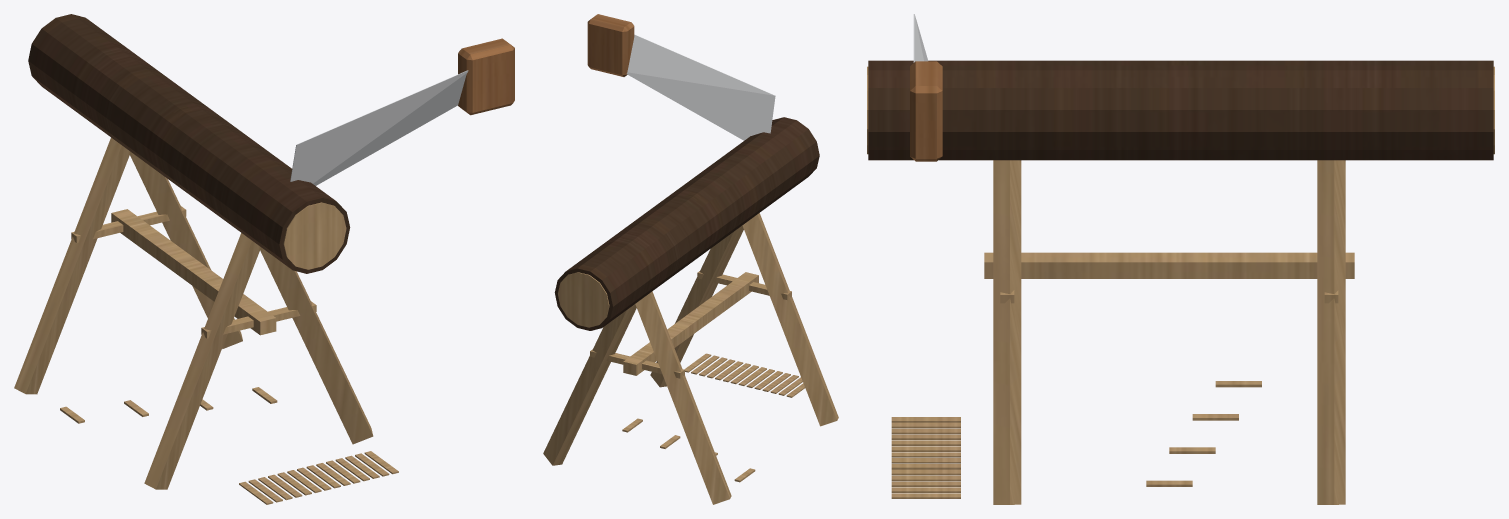
File: cavalete_serra.glb
3 views of the same model, side by side, from view 1: azimuth 30°, elevation 25°; view 2: azimuth 150°, elevation 25°; view 3: azimuth 270°, elevation 25° (orthographic). The views are drawn at different scales.
Visible parts, largest first — view 1: cavalete_serra_madeira_crua, cavalete_serra_casca, cavalete_serra_aco_polido, cavalete_serra_madeira; view 2: cavalete_serra_madeira_crua, cavalete_serra_casca, cavalete_serra_aco_polido, cavalete_serra_madeira; view 3: cavalete_serra_casca, cavalete_serra_madeira_crua, cavalete_serra_madeira.
Boxes of the visible parts, left/top/right/bottom form: cavalete_serra_madeira_crua: left=14, top=137, right=398, bottom=504; cavalete_serra_casca: left=28, top=14, right=350, bottom=273; cavalete_serra_aco_polido: left=290, top=70, right=468, bottom=185; cavalete_serra_madeira: left=458, top=38, right=514, bottom=115; cavalete_serra_madeira_crua: left=543, top=213, right=838, bottom=504; cavalete_serra_casca: left=554, top=117, right=819, bottom=330; cavalete_serra_aco_polido: left=626, top=34, right=775, bottom=140; cavalete_serra_madeira: left=587, top=14, right=634, bottom=76; cavalete_serra_casca: left=868, top=60, right=1493, bottom=160; cavalete_serra_madeira_crua: left=867, top=66, right=1494, bottom=504; cavalete_serra_madeira: left=910, top=61, right=942, bottom=161.
Size of the model in its own units: 1.03 by 1.17 by 1.36.
4 materials, 3 textured.
